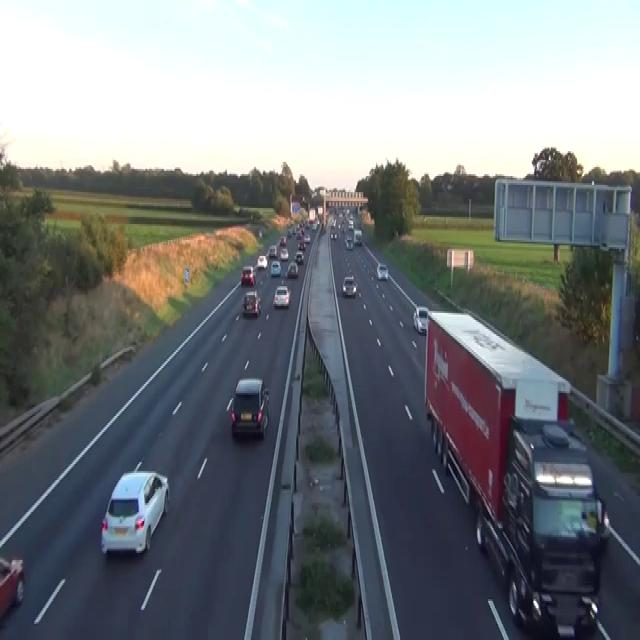Car: (100, 460, 169, 554), (230, 377, 269, 439), (0, 554, 25, 620), (329, 206, 362, 249), (413, 304, 429, 334), (242, 290, 260, 316), (273, 284, 290, 308), (342, 274, 356, 297), (240, 265, 255, 284), (376, 263, 388, 279), (286, 262, 298, 278), (270, 260, 281, 276), (353, 228, 362, 244), (344, 233, 353, 249), (257, 254, 267, 268), (268, 244, 277, 258), (294, 251, 303, 265), (280, 247, 288, 260), (297, 240, 305, 251), (279, 235, 286, 245), (330, 228, 337, 238), (320, 222, 326, 233), (303, 233, 310, 242), (286, 228, 292, 238), (348, 219, 353, 229), (296, 230, 302, 238), (258, 228, 262, 238), (311, 222, 316, 230)
Truck: (423, 310, 610, 638)
